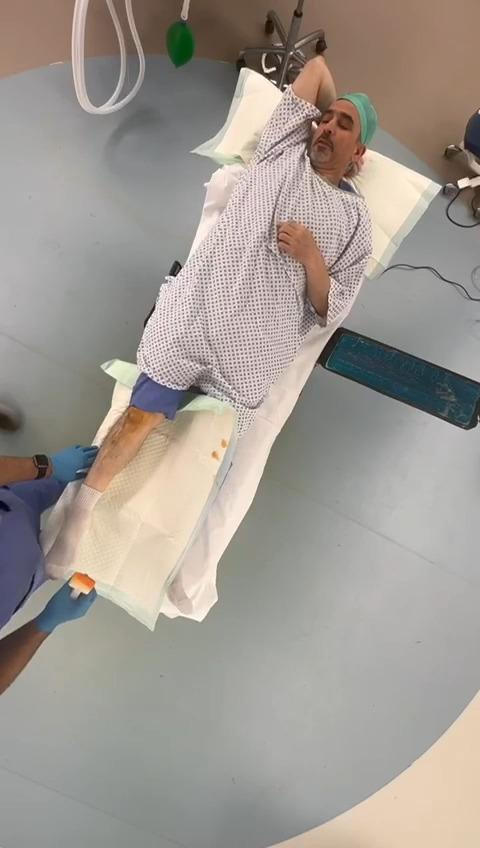patient: (46, 56, 376, 576)
tourniquet: (68, 573, 96, 597)
